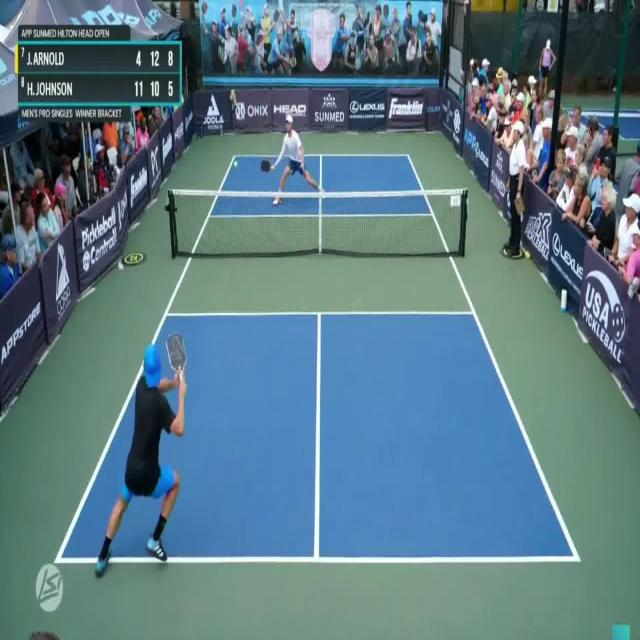Court: (56, 155, 578, 560)
ball: (232, 158, 240, 171)
